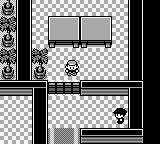main: (64, 61, 79, 75)
no-caminable: (143, 0, 160, 144), (0, 0, 17, 80), (130, 0, 143, 81), (18, 0, 31, 80), (81, 18, 112, 48), (81, 80, 143, 95), (49, 17, 79, 47), (81, 129, 143, 143), (32, 87, 47, 143), (0, 81, 48, 95), (129, 87, 142, 128), (32, 49, 48, 80), (48, 83, 80, 93)
npc: (113, 108, 126, 124)
puerta: (48, 128, 80, 143)
